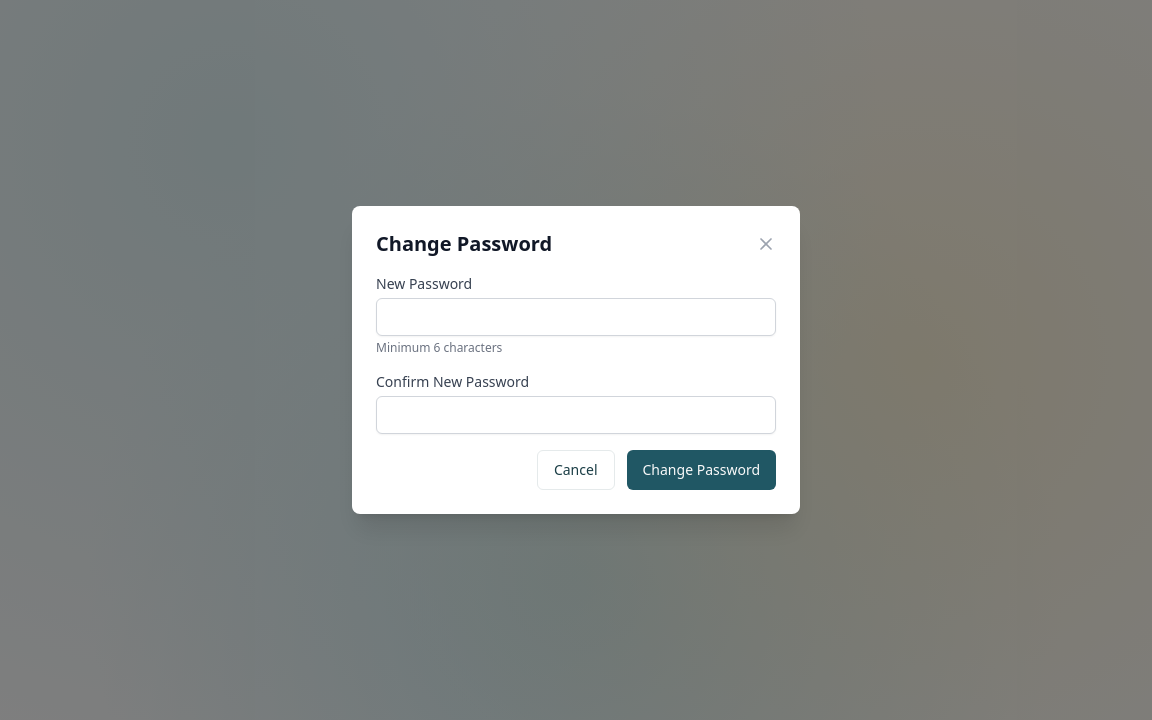
Test: ChangePasswordModal › Form Submission › shows error message on failed password change
Type "weak" into the password field labelled "New Password" at (576, 317), box [376,298,776,336]
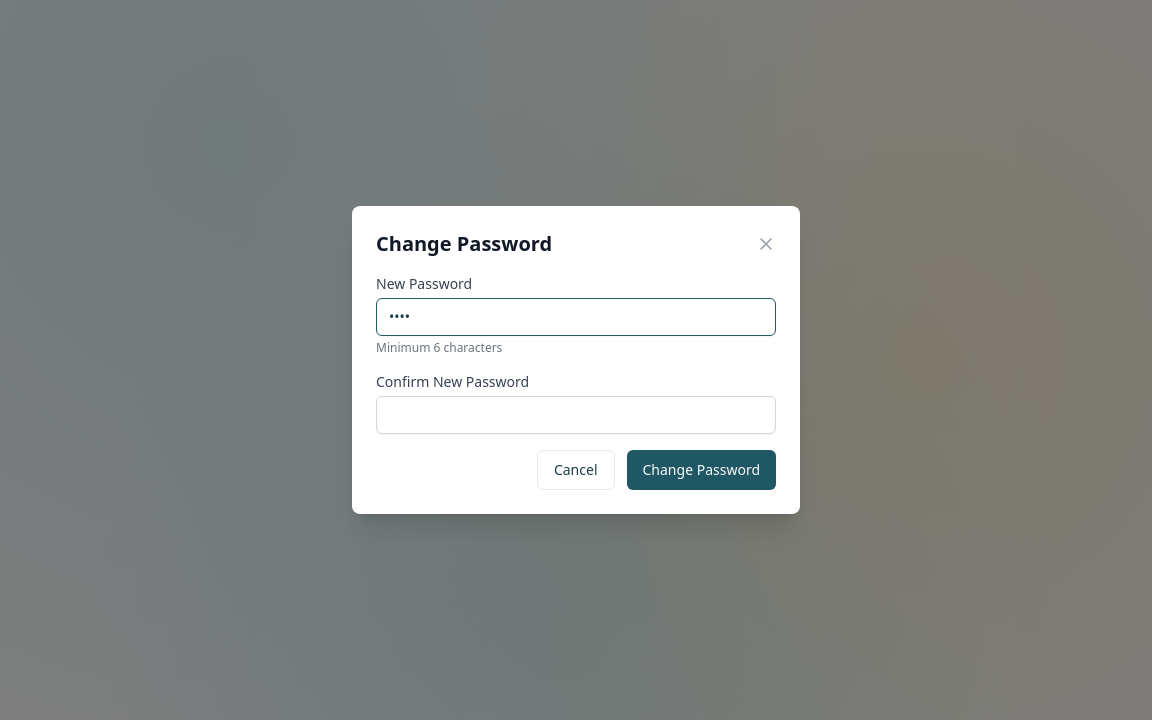
Type "weak" into the password field labelled "Confirm New Password" at (576, 415), box [376,396,776,434]
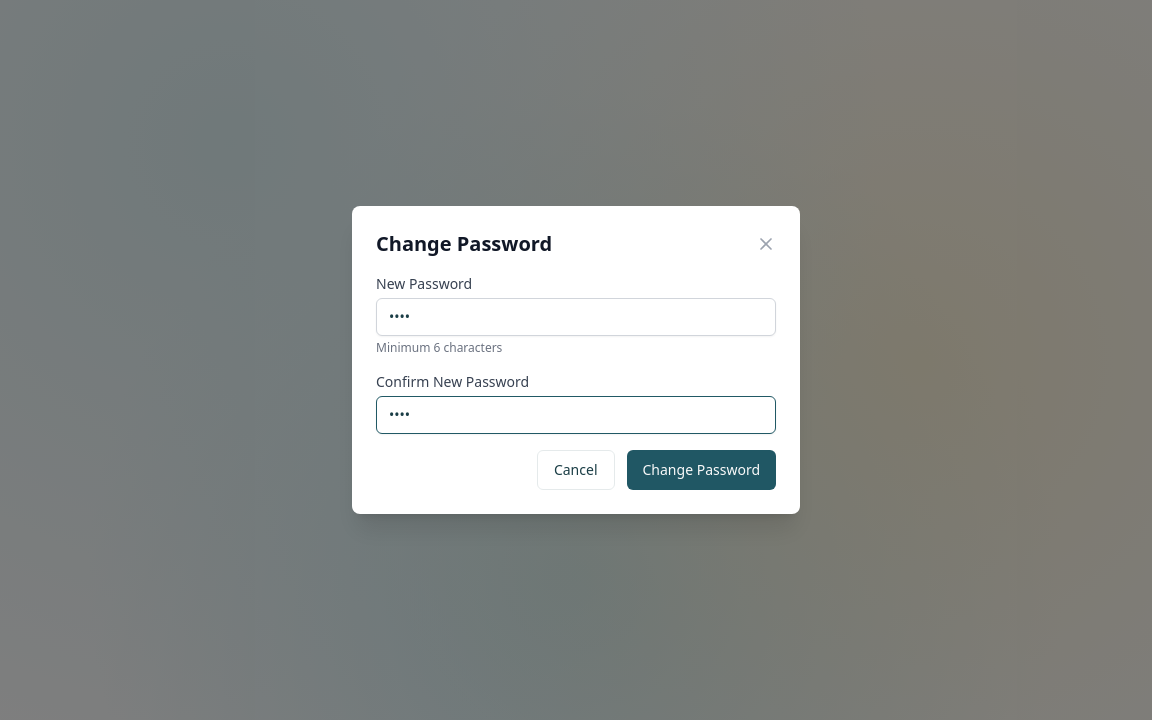
Click the button "Change Password" at (701, 470), box [626,450,776,490]
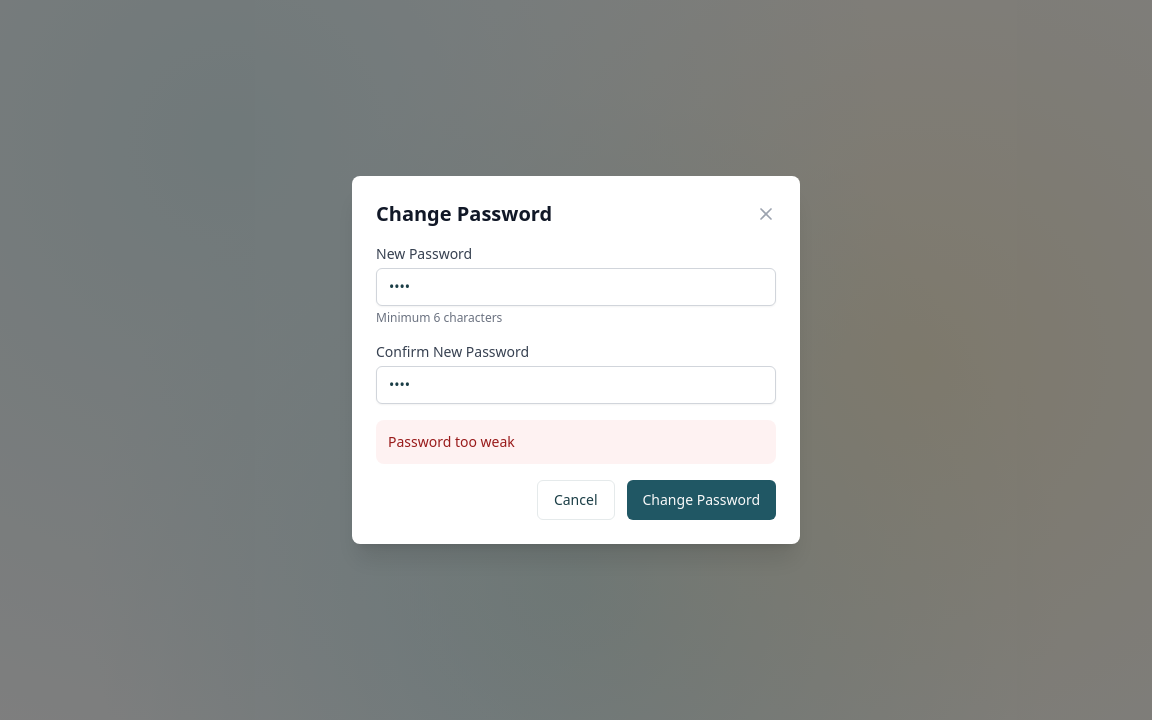
expect the text "Password too weak" is shown: met, box [376,420,776,464]
